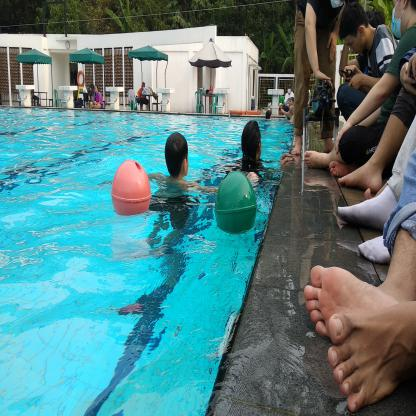green_buoy: (213, 167, 259, 237)
red_buoy: (109, 152, 154, 224)
